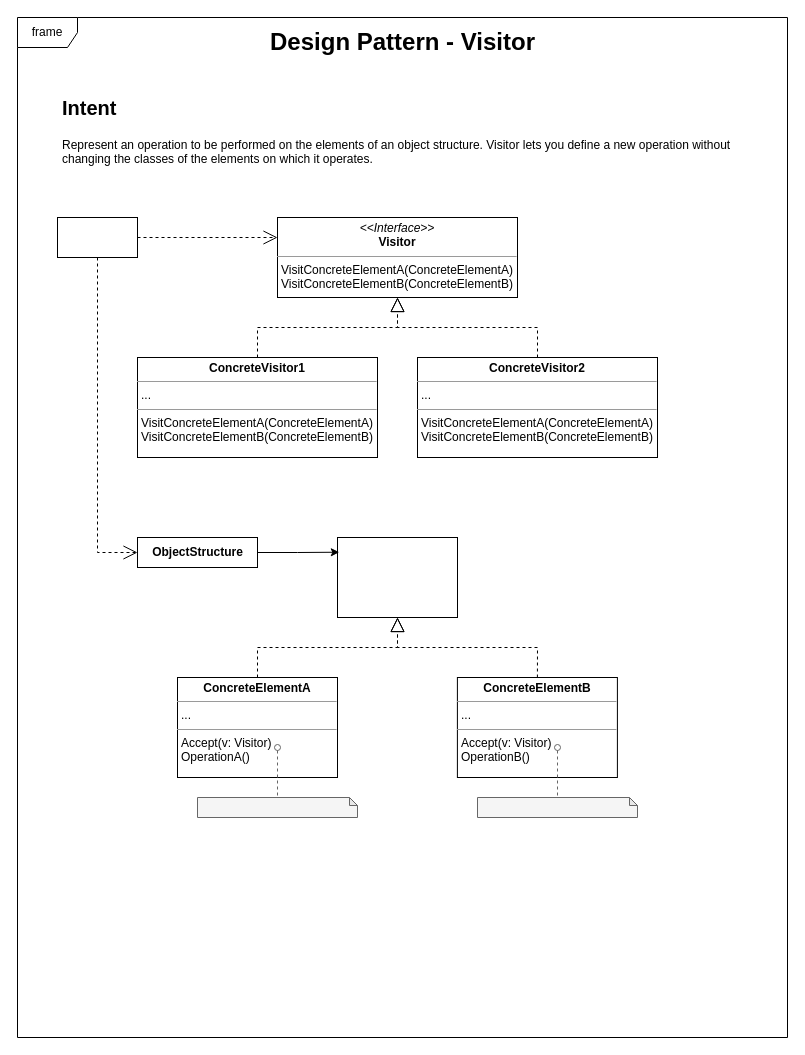
This 805x1055 diagram has some shape labels left out. The shapes that lost their labels are listed below. From the top down, each one's centre as x and y in pixels, then its label:
At [97,237]: "Client".
At [397,577]: "<<Interface>> Element Accept(Visitor)".
At [277,807]: "v->VisitConcreteElementA( this )".
At [557,807]: "v->VisitConcreteElementB( this )".
